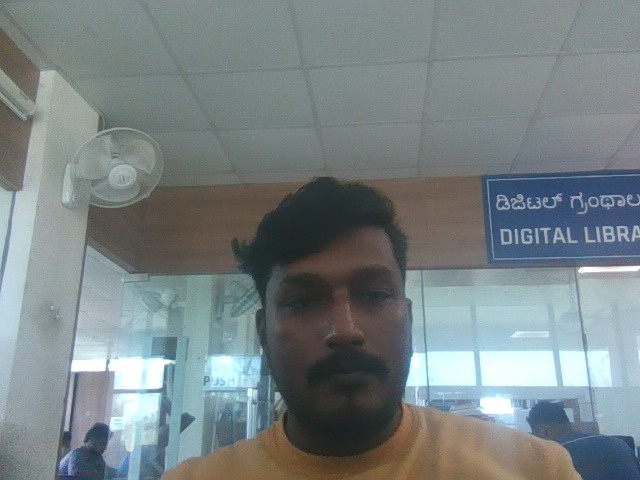real: (241, 157, 443, 444)
